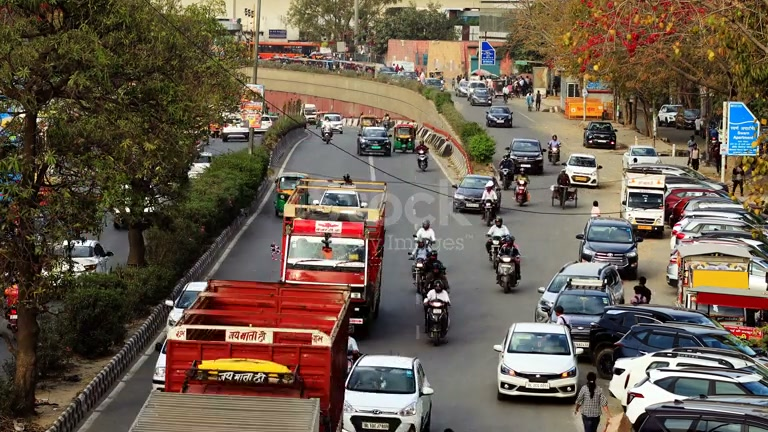bus: (278, 178, 389, 327), (674, 239, 768, 328)
car: (589, 305, 750, 377), (612, 361, 768, 421), (602, 323, 763, 375), (610, 353, 767, 406), (341, 354, 435, 431), (492, 322, 581, 402), (536, 261, 625, 313), (575, 218, 641, 280), (632, 400, 767, 430), (166, 280, 210, 327), (451, 174, 499, 213), (273, 171, 310, 217), (509, 138, 545, 175), (563, 153, 600, 188), (356, 126, 392, 157), (583, 121, 618, 149), (622, 145, 660, 169), (486, 105, 514, 127), (320, 113, 345, 137), (468, 87, 493, 106)
motorcycle: (423, 296, 451, 346), (494, 250, 521, 292), (550, 173, 578, 208), (551, 184, 577, 208), (514, 180, 530, 206)
pedestrian: (573, 371, 609, 431), (423, 280, 451, 330), (485, 216, 514, 262), (494, 235, 522, 282), (412, 218, 437, 262), (630, 275, 652, 305)
truck: (152, 277, 354, 426), (278, 178, 389, 327)
